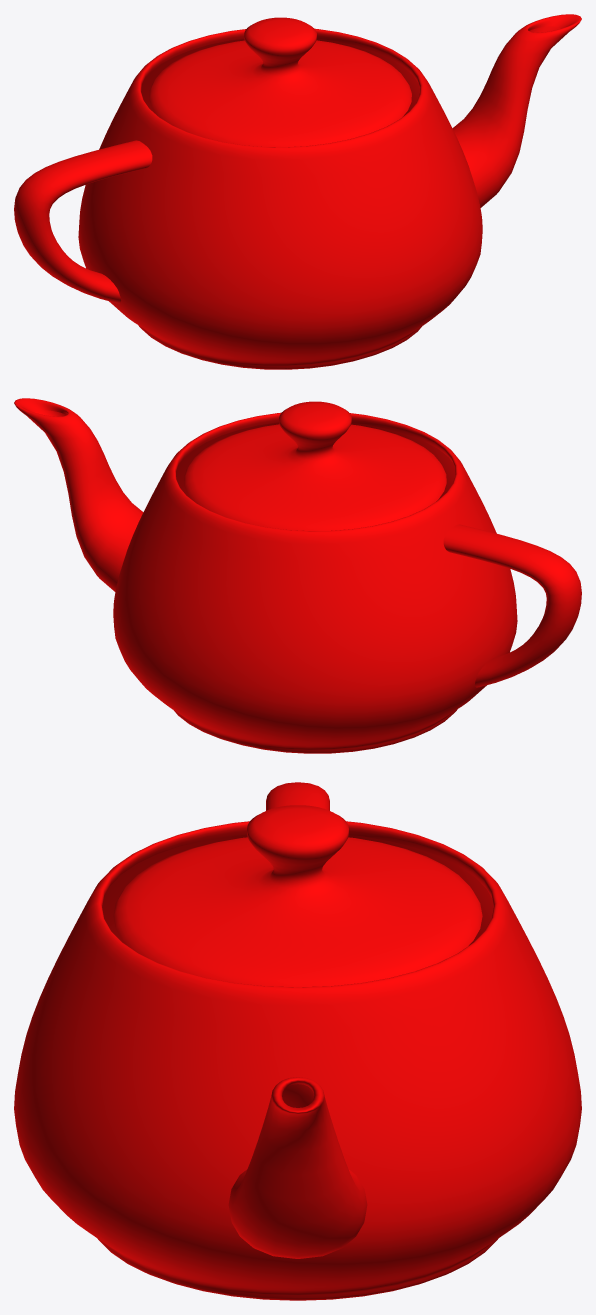
The model's file is SingleTeapot-RedDiffuseColor.FBX.
3 views of the same model, one above another, from view 1: azimuth 30°, elevation 25°; view 2: azimuth 150°, elevation 25°; view 3: azimuth 270°, elevation 25° (orthographic). The views are drawn at different scales.
Visible parts, largest first — view 1: Teapot001; view 2: Teapot001; view 3: Teapot001.
Part boxes in pixels (left/top/right/bottom): Teapot001: left=14, top=14, right=581, bottom=369; Teapot001: left=14, top=398, right=581, bottom=753; Teapot001: left=14, top=782, right=581, bottom=1300.
Bounding box in the file's own units: 1.61 × 0.7875 × 1.
